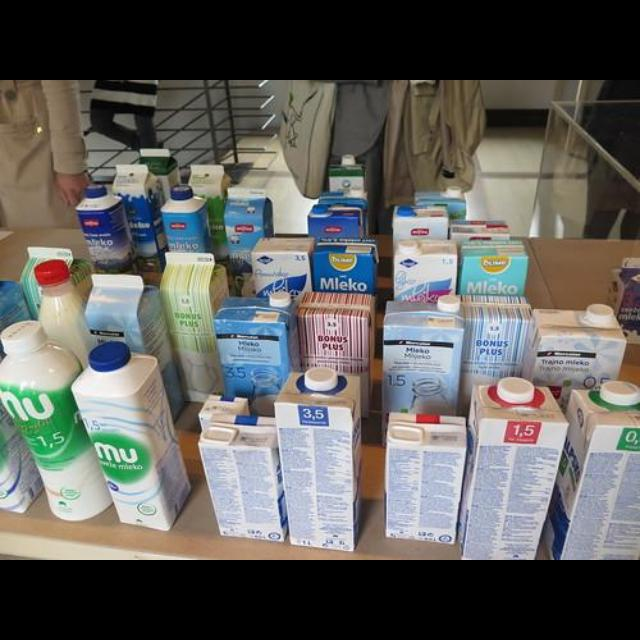caixinha: (458, 384, 572, 560), (542, 388, 640, 560), (272, 372, 364, 552), (85, 272, 187, 420), (198, 412, 290, 542), (387, 411, 468, 544), (160, 253, 230, 404), (384, 295, 464, 411), (215, 298, 297, 398), (461, 297, 534, 409), (522, 309, 626, 387), (295, 292, 373, 372), (114, 164, 170, 274), (21, 247, 97, 319), (187, 164, 233, 258), (392, 238, 458, 300), (458, 238, 528, 296), (250, 236, 314, 298), (222, 188, 274, 262), (310, 238, 380, 292), (610, 256, 640, 346), (138, 148, 182, 196), (392, 204, 450, 240), (308, 202, 364, 238), (414, 190, 466, 218), (450, 220, 514, 240), (328, 162, 366, 190)
tampa plástica: (0, 320, 48, 358), (88, 340, 130, 374), (34, 258, 72, 288), (598, 381, 640, 407), (496, 378, 534, 404), (304, 366, 338, 390), (584, 304, 616, 324), (436, 296, 459, 312), (171, 186, 195, 200), (396, 240, 419, 254), (85, 184, 107, 198), (312, 205, 328, 215), (397, 206, 413, 216), (446, 186, 460, 197), (341, 155, 355, 165)
